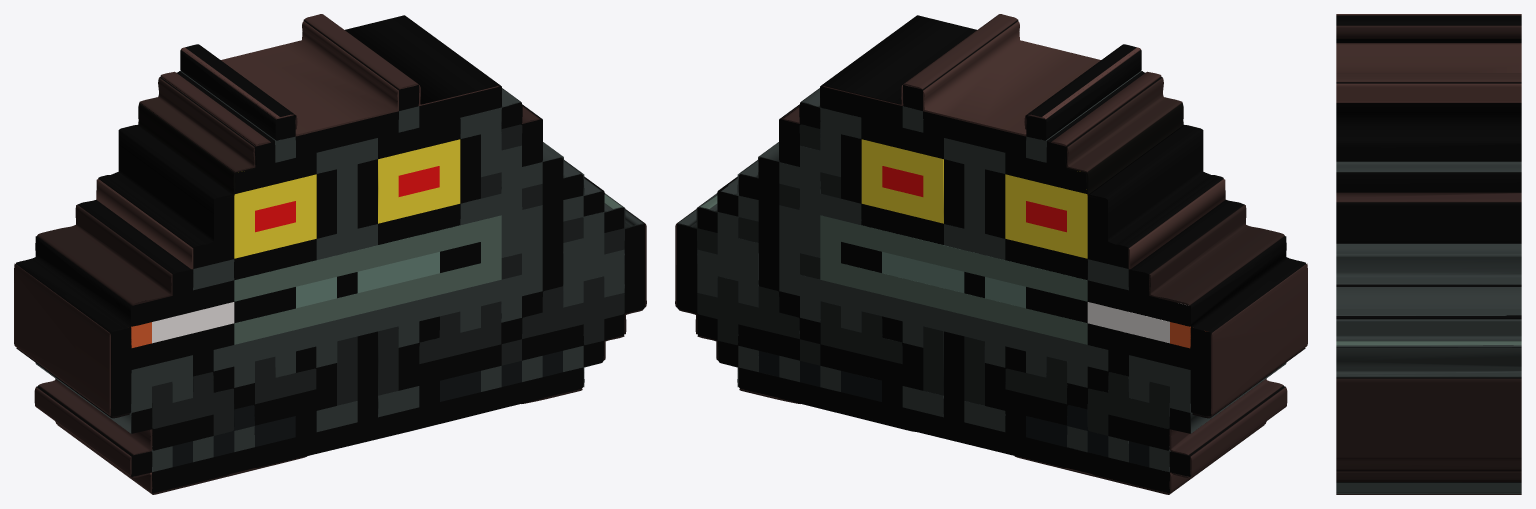
Rendered from Toadz_4369.glb.
3 renders of one model, left to right at view 1: azimuth 30°, elevation 25°; view 2: azimuth 150°, elevation 25°; view 3: azimuth 270°, elevation 25°, orthographic. The views are drawn at different scales.
Visible parts, largest first — view 1: Curve; view 2: Curve; view 3: Curve.
Part boxes in pixels (left/top/right/bottom): Curve: left=14, top=14, right=646, bottom=494; Curve: left=675, top=14, right=1307, bottom=494; Curve: left=1336, top=14, right=1521, bottom=494.
Bounding box in the file's own units: 3.25 × 2.01 × 1.
